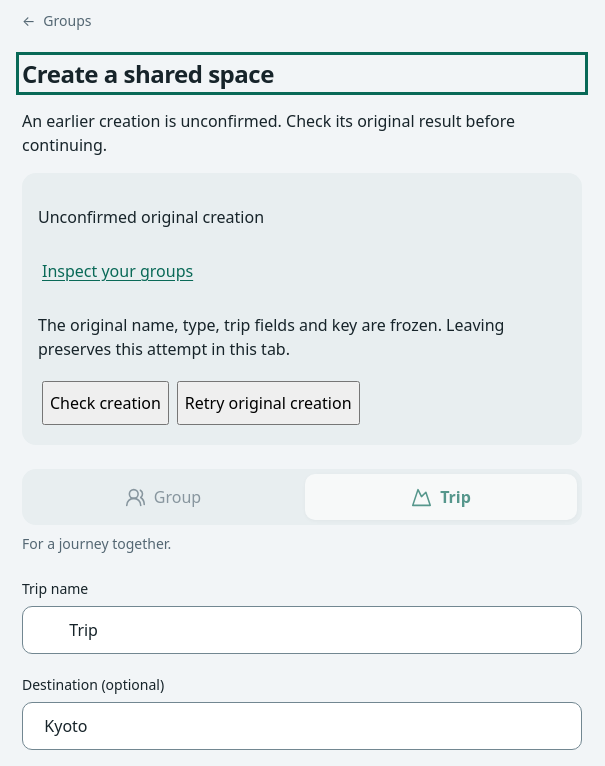
does not lose rejected-attempt identity if writing the corrected draft fails
Click the button "Check creation" at point(105, 403), box [42, 381, 169, 425]
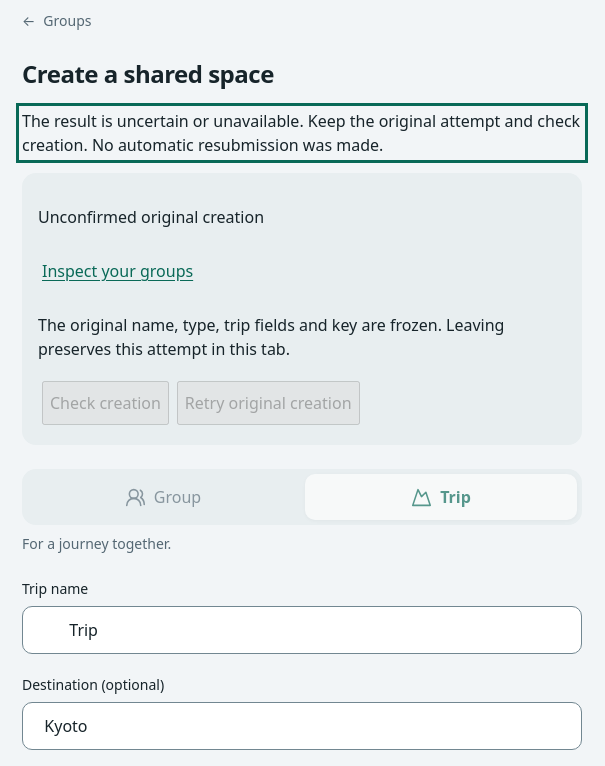
Expected: the button "Retry original creation" is disabled, [177, 381, 360, 425]
